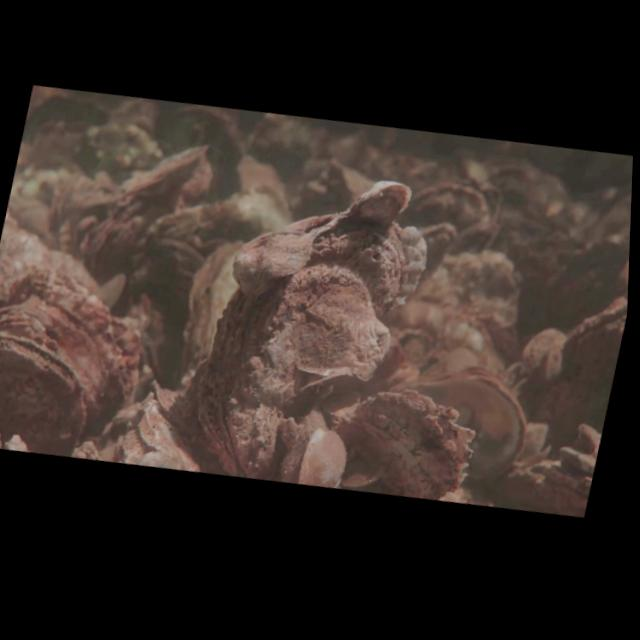Oyster-Closed: (192, 179, 431, 480), (396, 368, 528, 485), (335, 389, 475, 499), (0, 332, 89, 455), (121, 378, 227, 475), (278, 411, 348, 486)
Oyster-Indeterminate: (0, 269, 144, 456)
